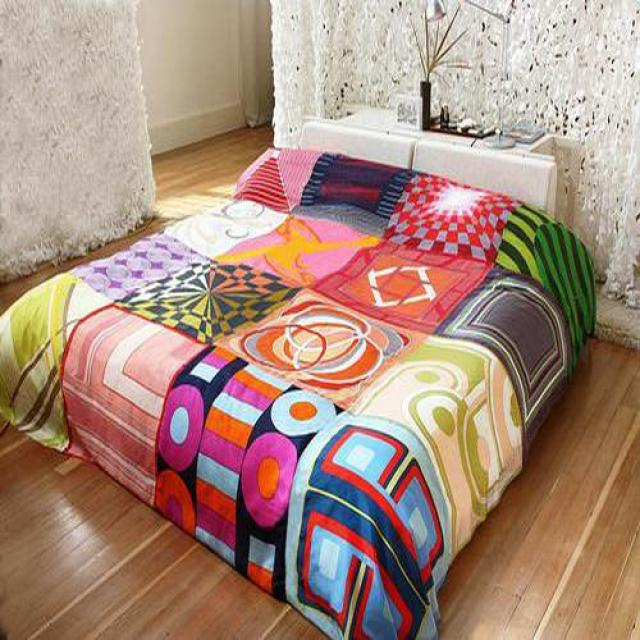bed: (0, 124, 595, 640)
